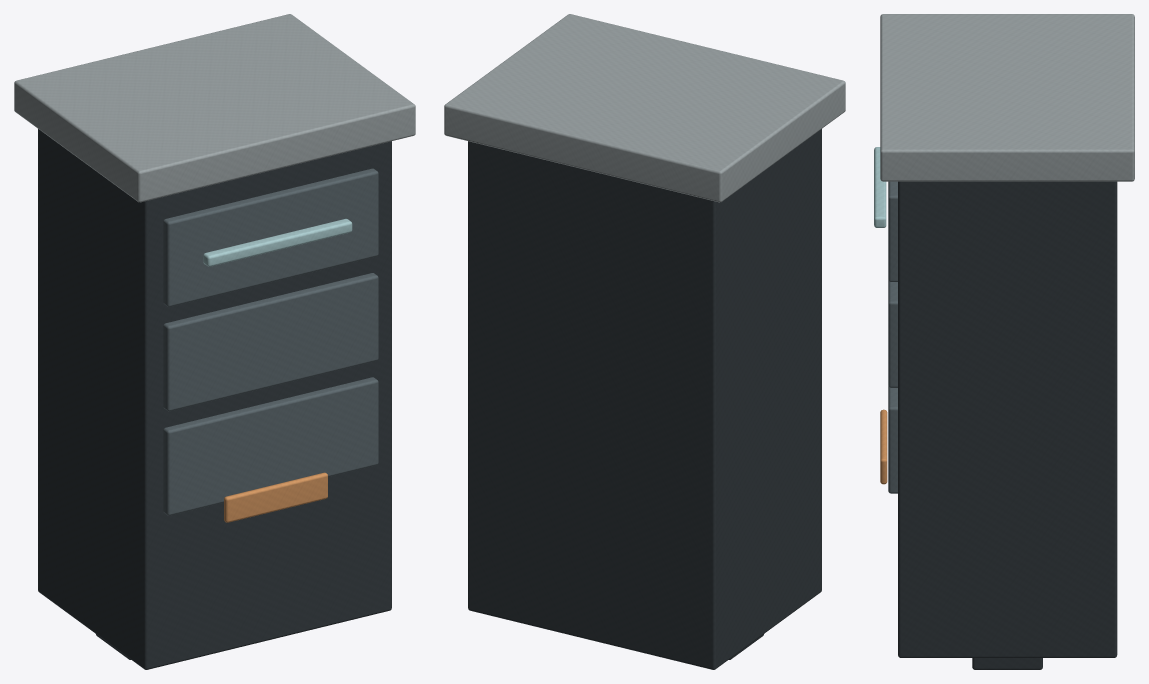
File: RollingToolCabinet.fbx
3 views of the same model, side by side, from view 1: azimuth 30°, elevation 25°; view 2: azimuth 150°, elevation 25°; view 3: azimuth 270°, elevation 25° (orthographic).
Visible parts, largest first — view 1: RollingToolCabinet_Mesh; view 2: RollingToolCabinet_Mesh; view 3: RollingToolCabinet_Mesh.
Boxes of the visible parts, <box> form: RollingToolCabinet_Mesh: <box>14,14,415,669</box>; RollingToolCabinet_Mesh: <box>444,14,845,669</box>; RollingToolCabinet_Mesh: <box>874,14,1134,669</box>.
Size of the model in its own units: 92 by 168 by 73.75.
5 materials, 5 textured.
